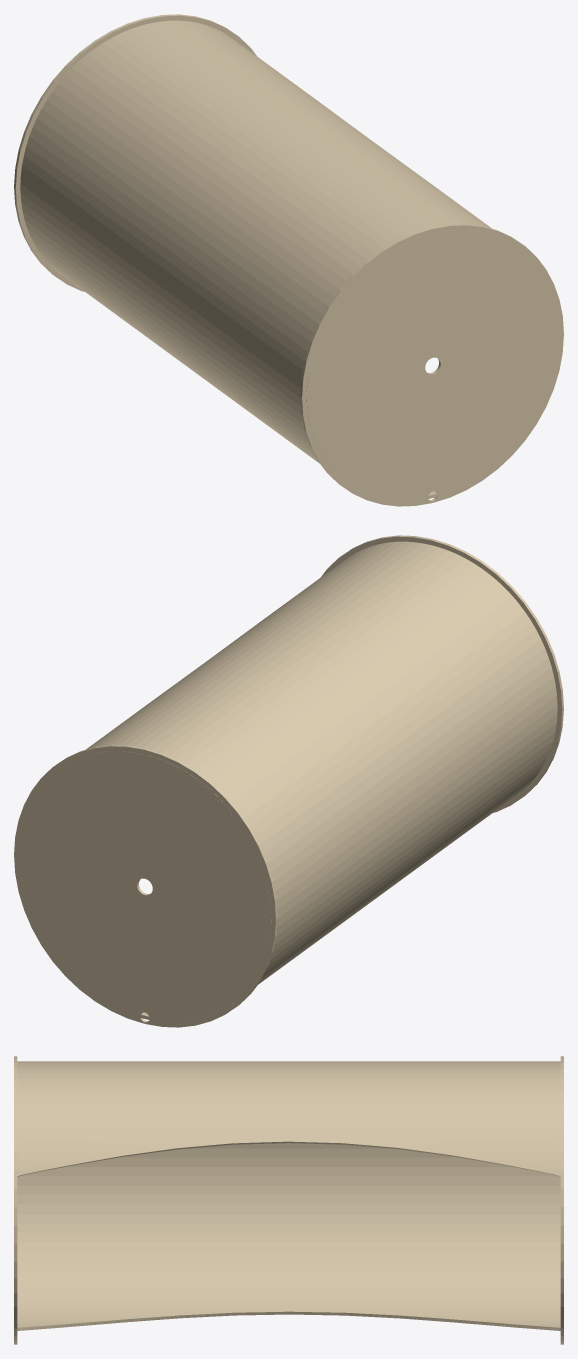
File: samla.glb
3 renders of one model, top to bottom at view 1: azimuth 30°, elevation 25°; view 2: azimuth 150°, elevation 25°; view 3: azimuth 270°, elevation 25°, orthographic. The views are drawn at different scales.
Visible parts, largest first — view 1: slicer-rullmote; view 2: slicer-rullmote; view 3: slicer-rullmote.
Part boxes in pixels (x1,y1,x2,y2): slicer-rullmote: (14,14,563,506); slicer-rullmote: (14,535,563,1027); slicer-rullmote: (14,1056,563,1344).
Size of the model in its own units: 0.168 by 0.168 by 0.32.
